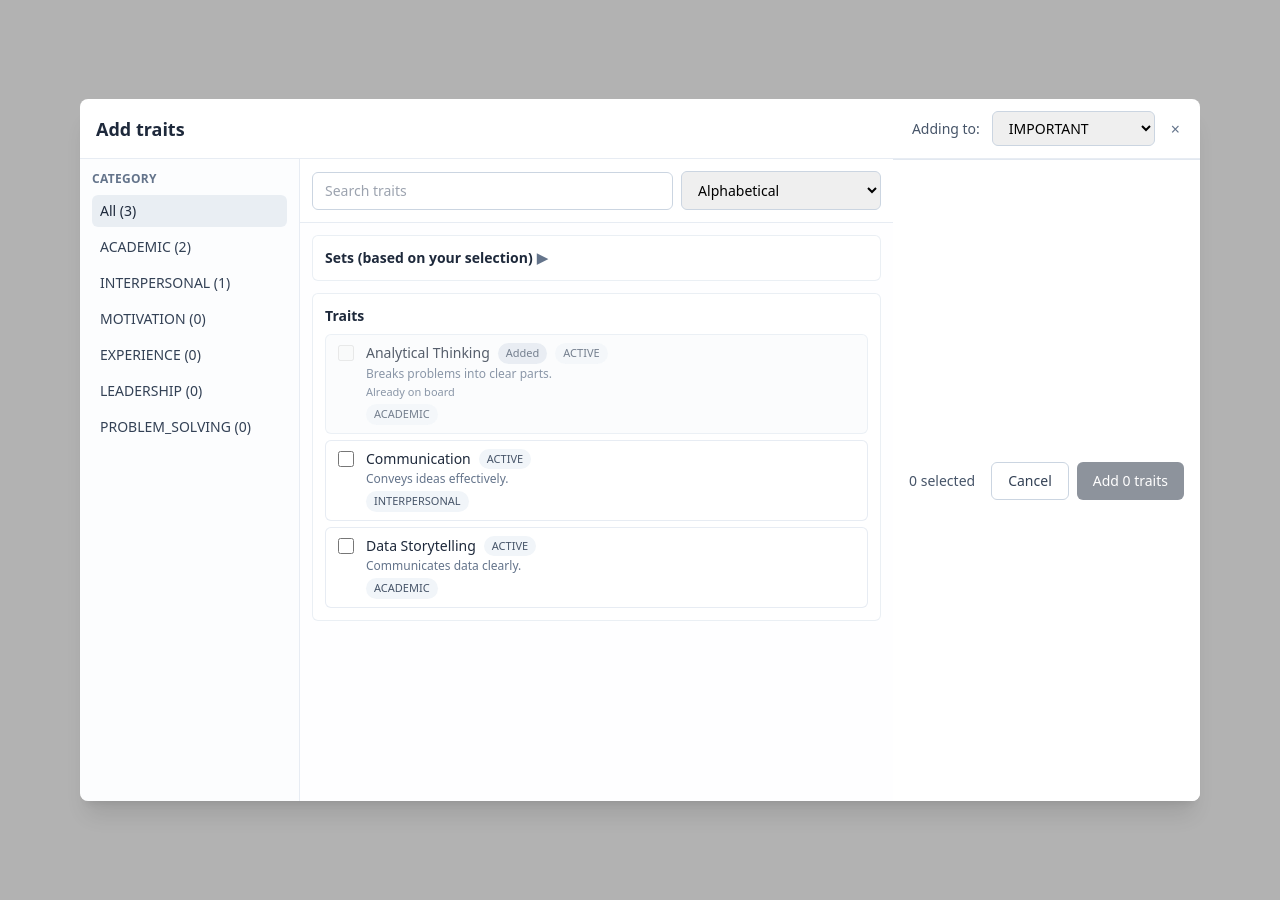
Test case: TraitPickerModal › selecting a set adds only traits that are not already added
Step 1. Click the button with aria-label "Expand sets" → (429, 258), box [325, 248, 868, 268]
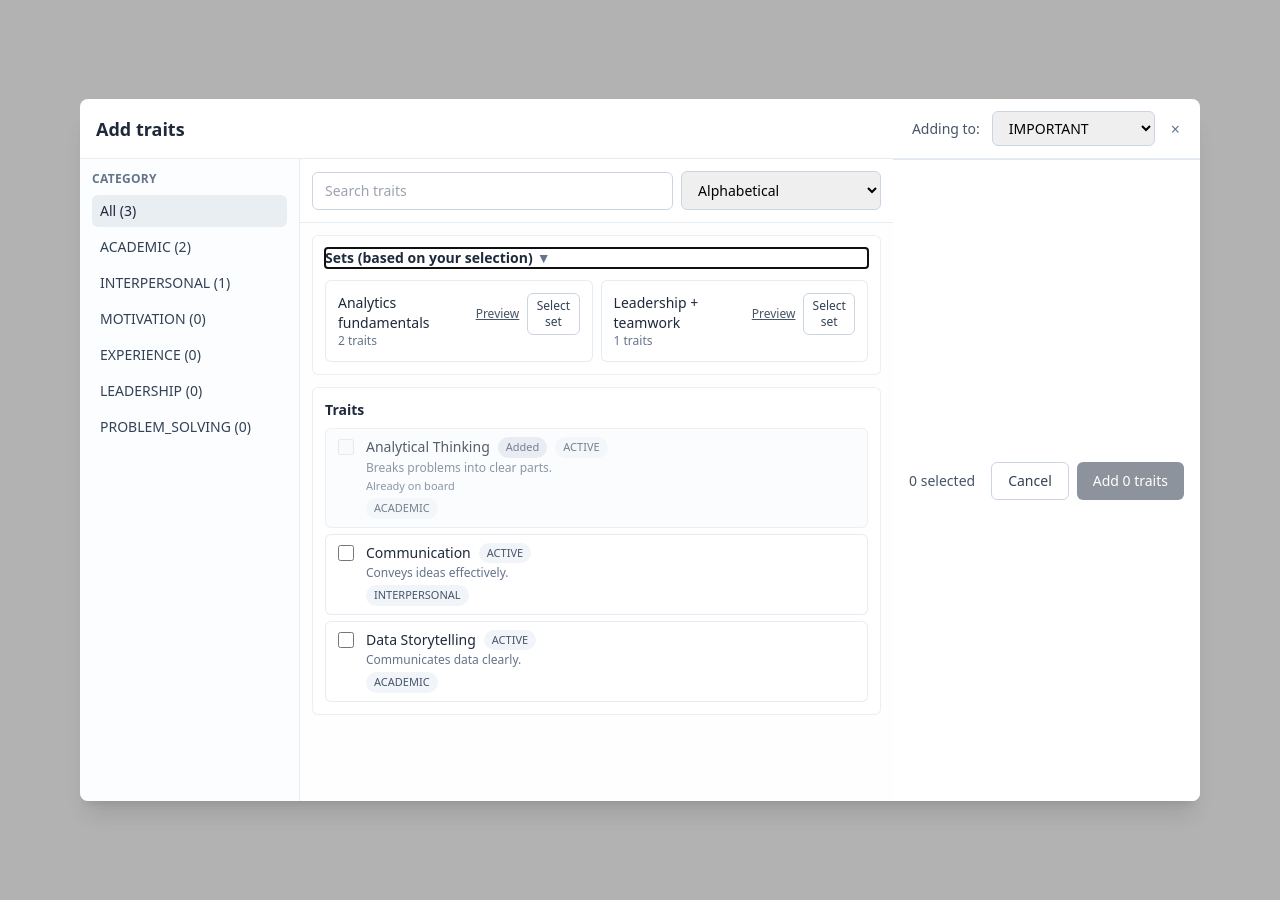
Step 2. Click the button with aria-label "Select set Analytics fundamentals" → (553, 314), box [527, 293, 580, 335]
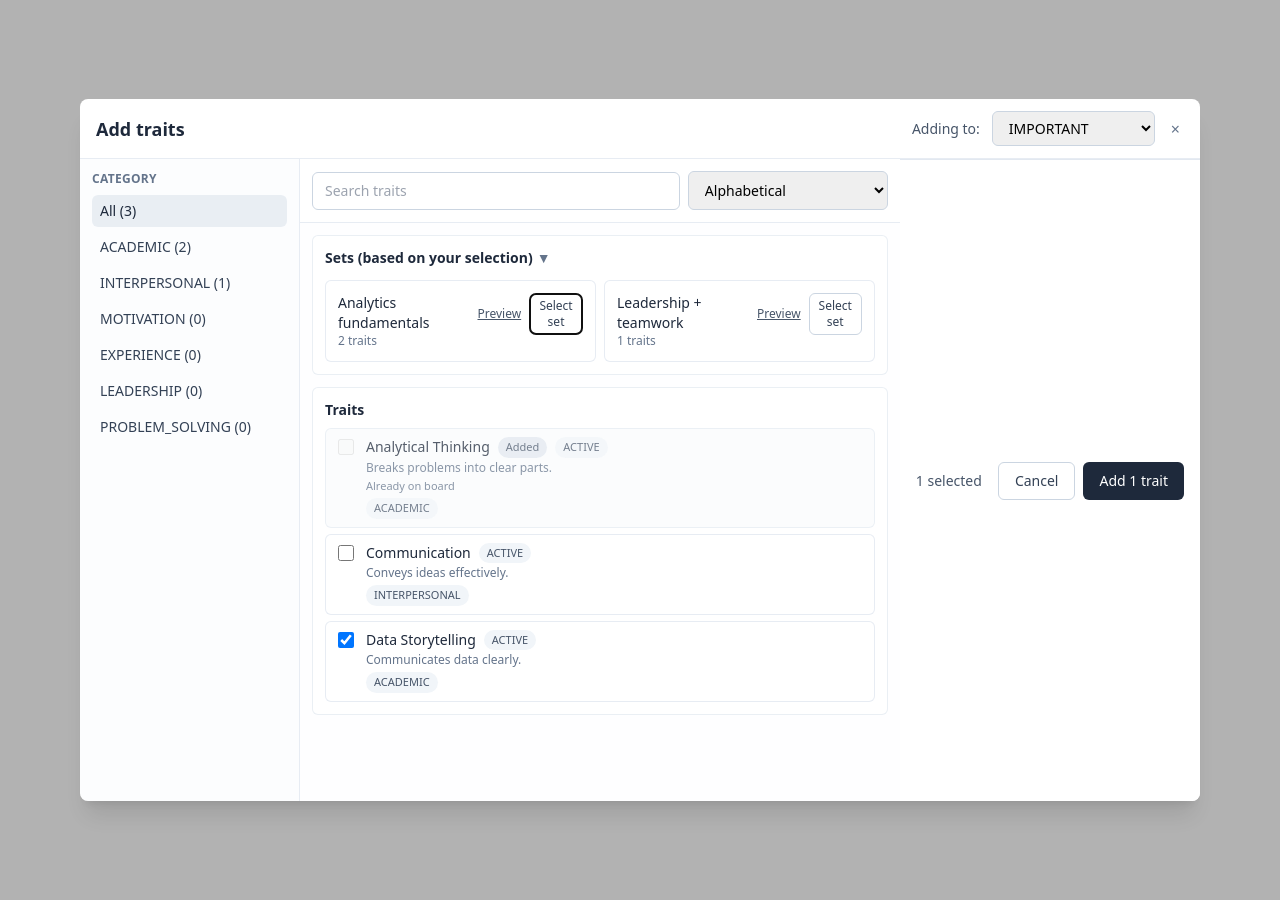
Expected: the checkbox named "Data Storytelling, selected" is shown, [338, 632, 354, 648]
